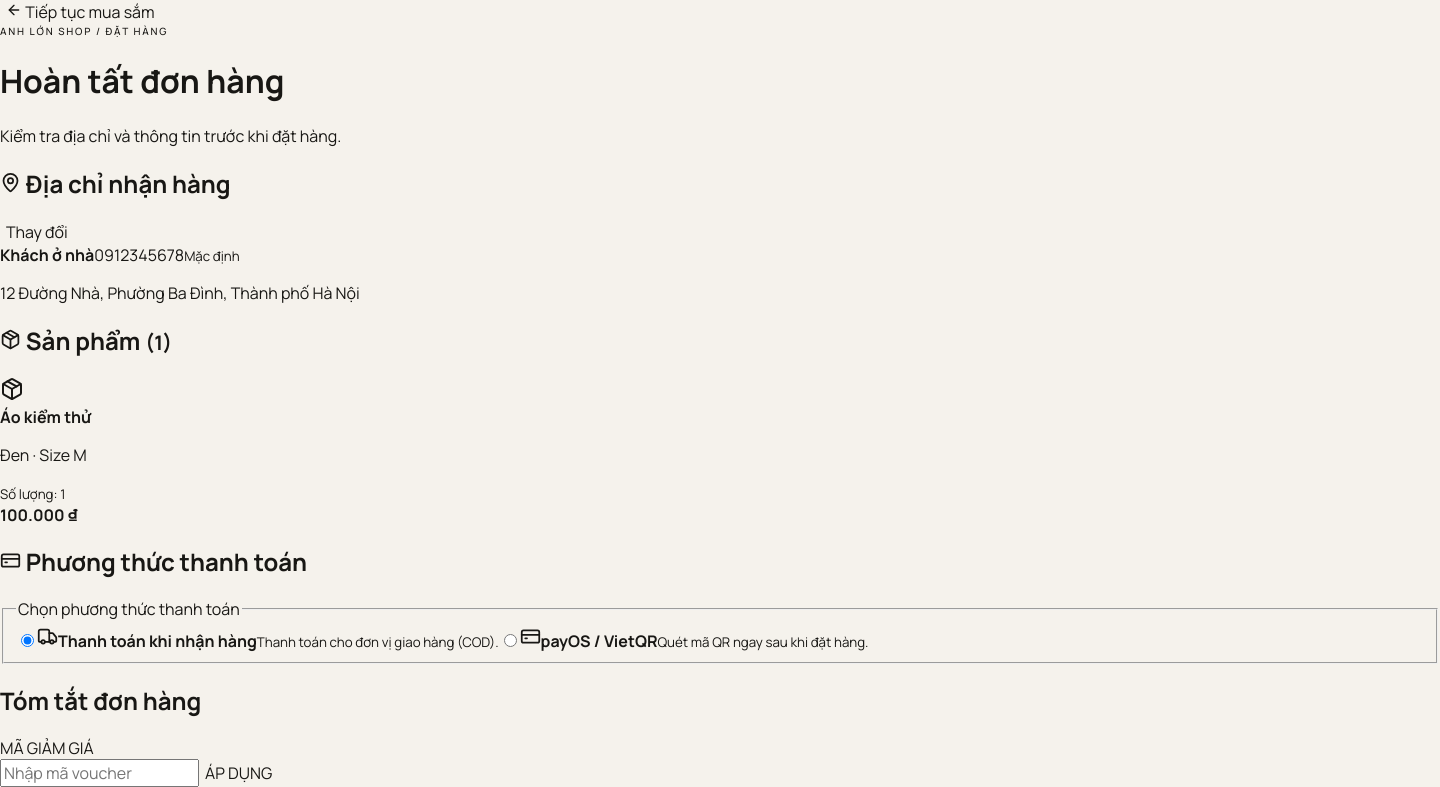
Test: cancelling a choice preserves the previous address; confirmation changes only this order
Expected: the text "Khách ở nhà" is shown, [0,244,94,266]
Click the button "Thay đổi": (37, 232) [0,220,74,244]
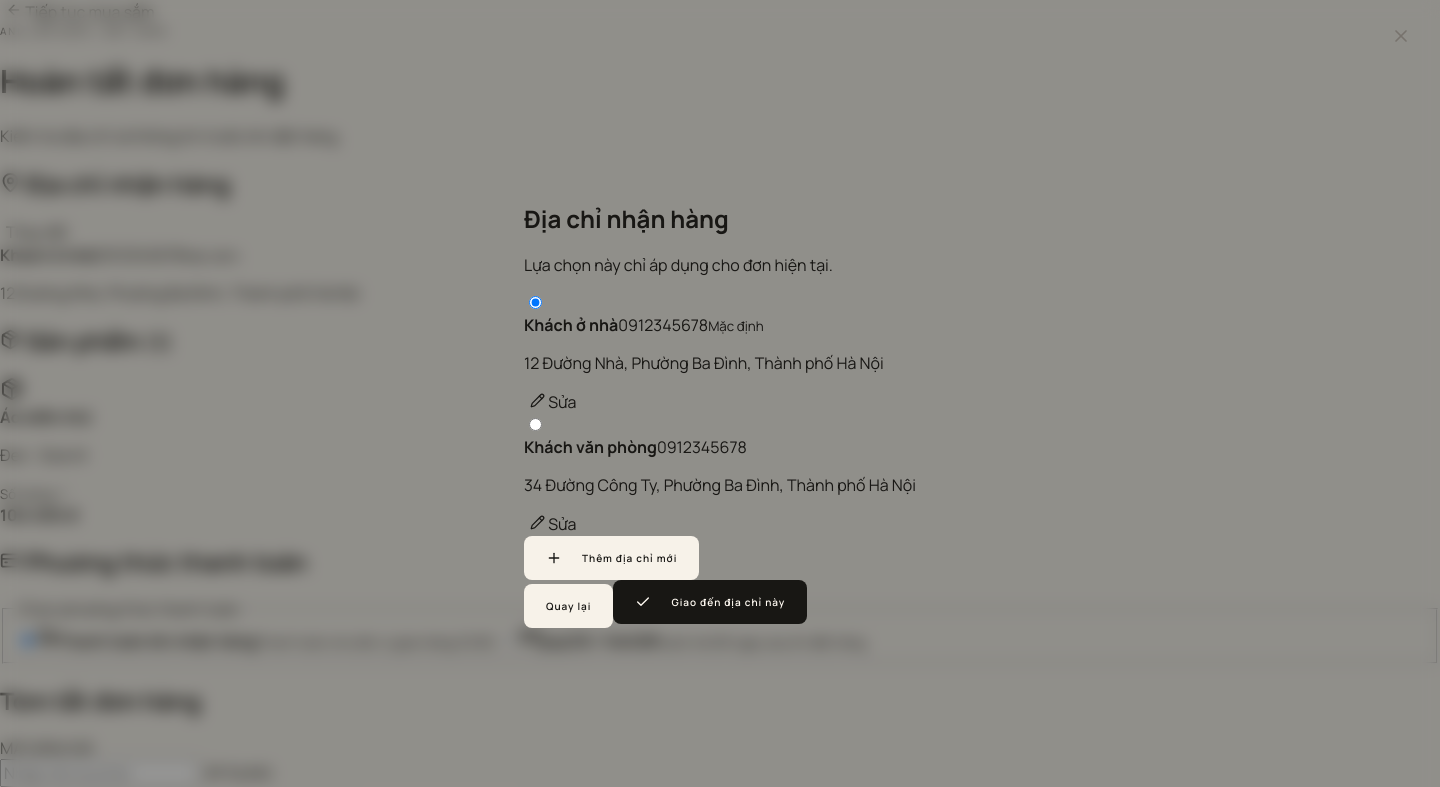
Click the radio button labelled "Khách văn phòng": (536, 425) [529,418,542,431]
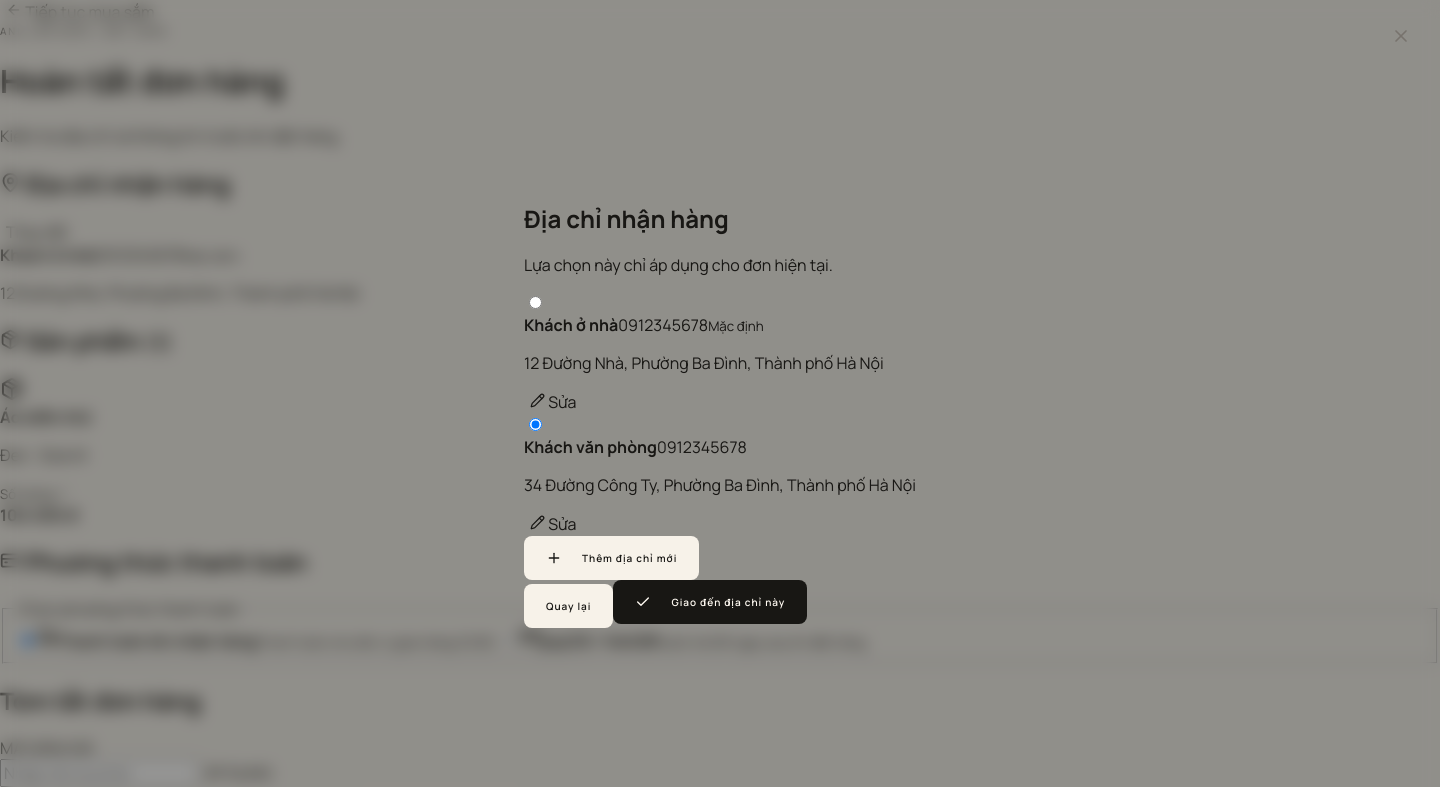
Click the button named "Đóng chọn địa chỉ": (1401, 35) [1385,19,1417,51]
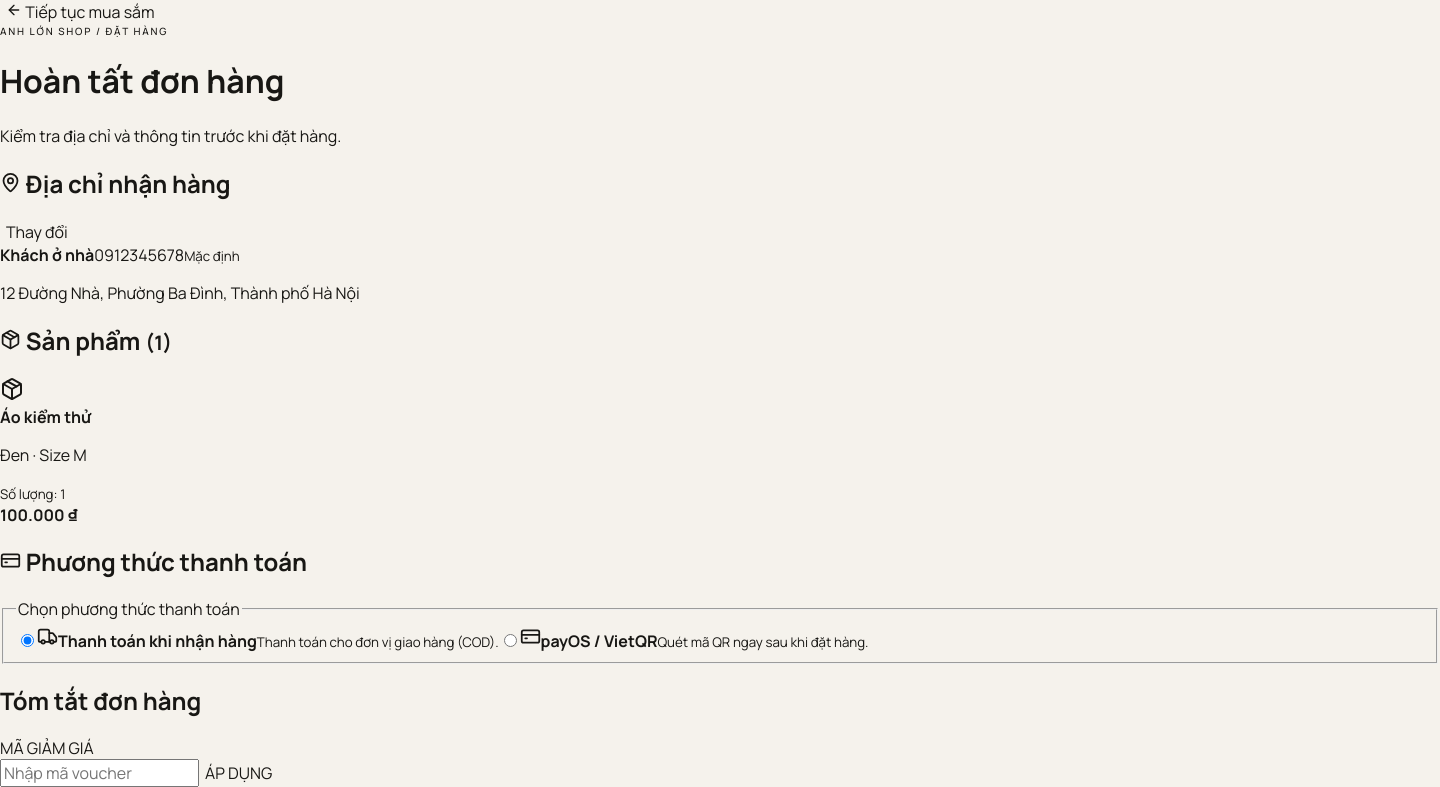
Expected: the text "Khách ở nhà" is shown, [0,244,94,266]
Result: the text "Khách văn phòng" is gone
Click the button "Thay đổi": (37, 232) [0,220,74,244]
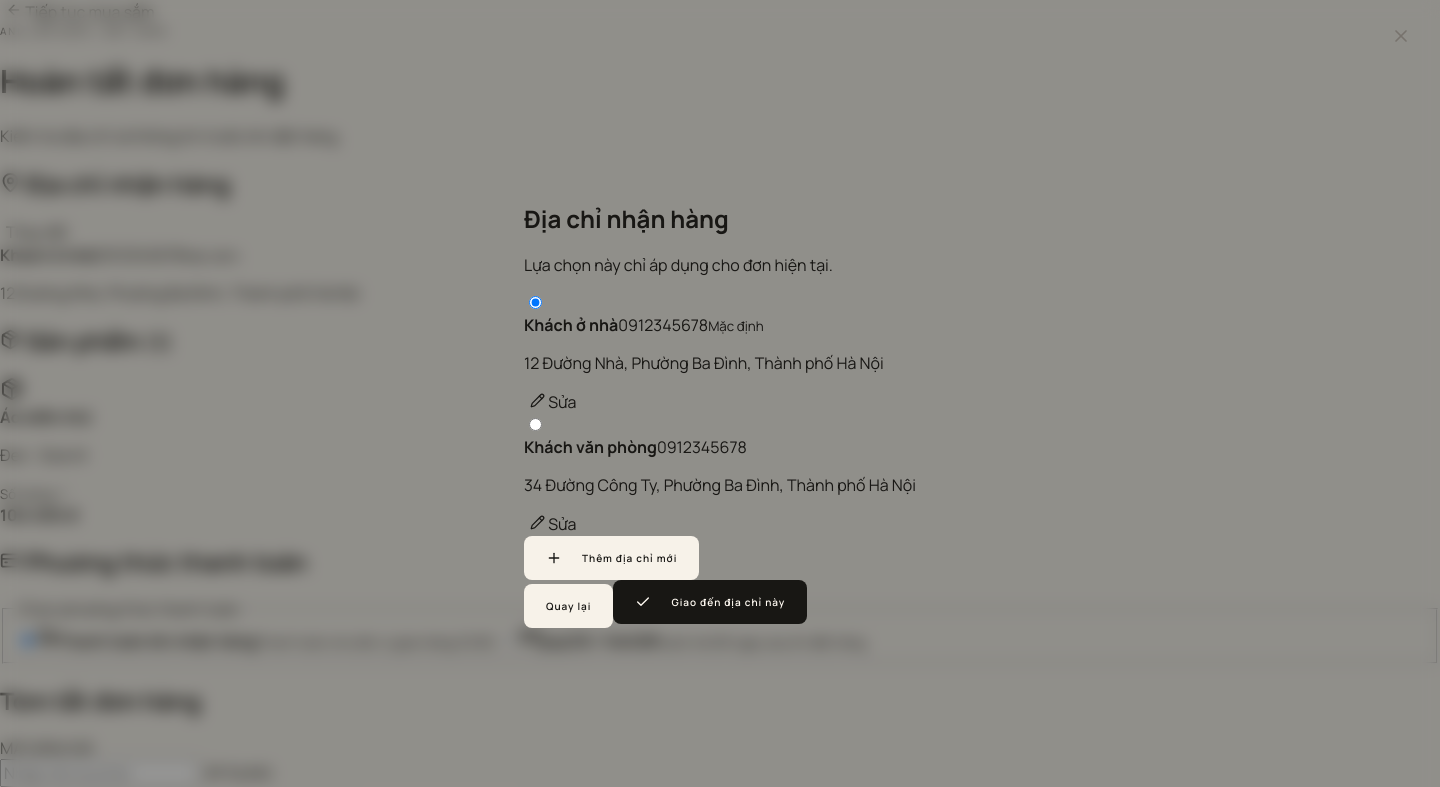
Click the radio button labelled "Khách văn phòng": (536, 425) [529,418,542,431]
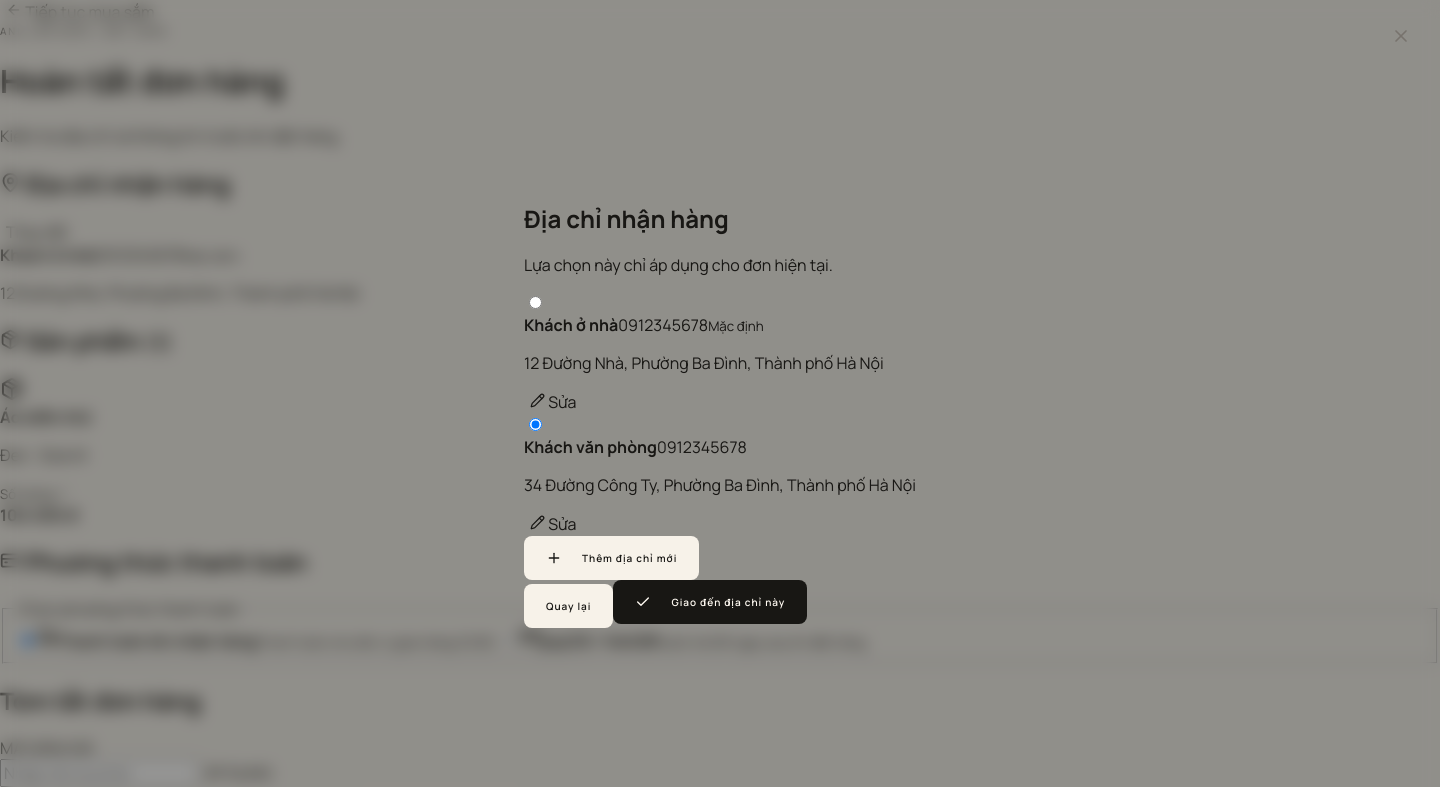
Click the button "Giao đến địa chỉ này": (710, 602) [613,580,807,624]
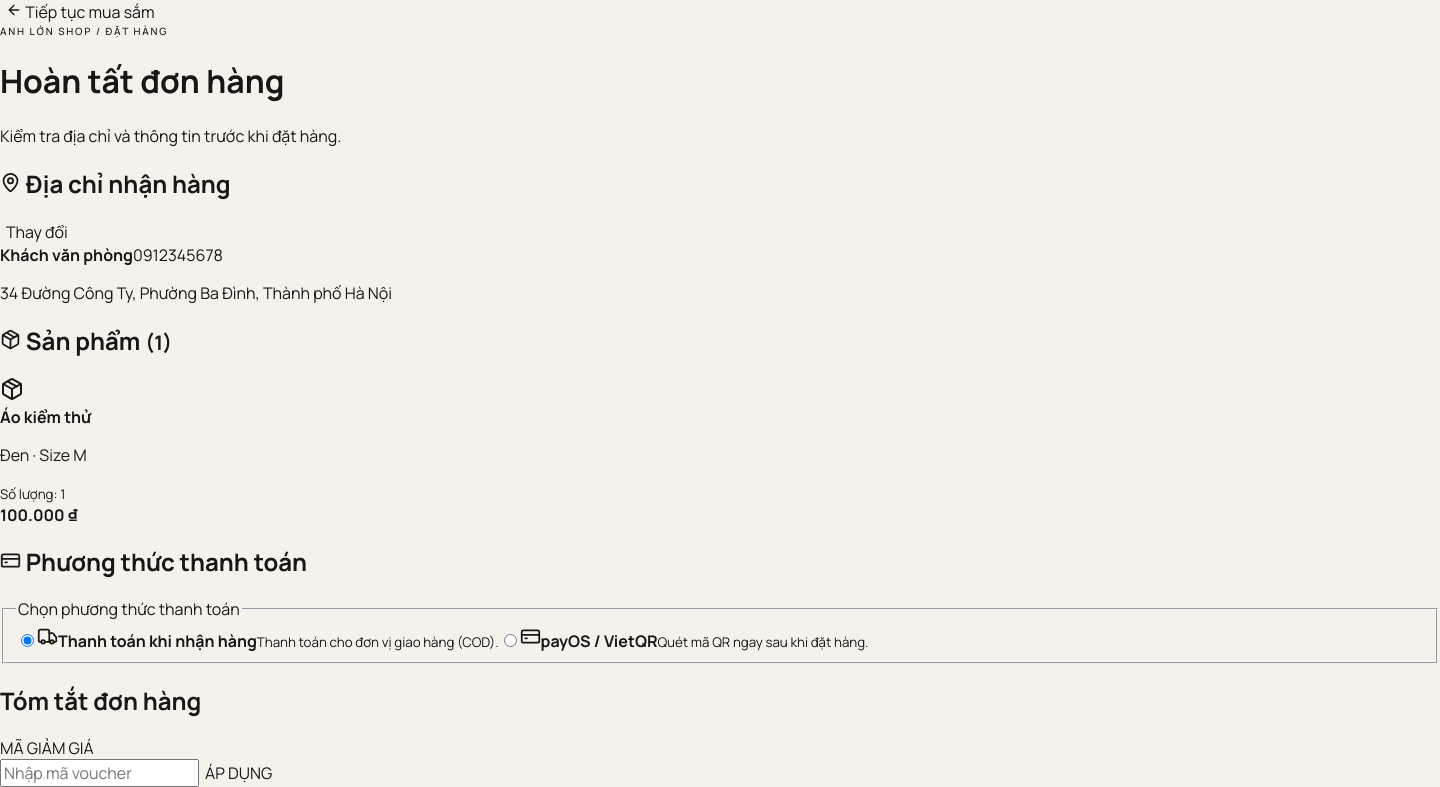
Result: the text "Khách văn phòng" is shown at [0,244,133,266]
